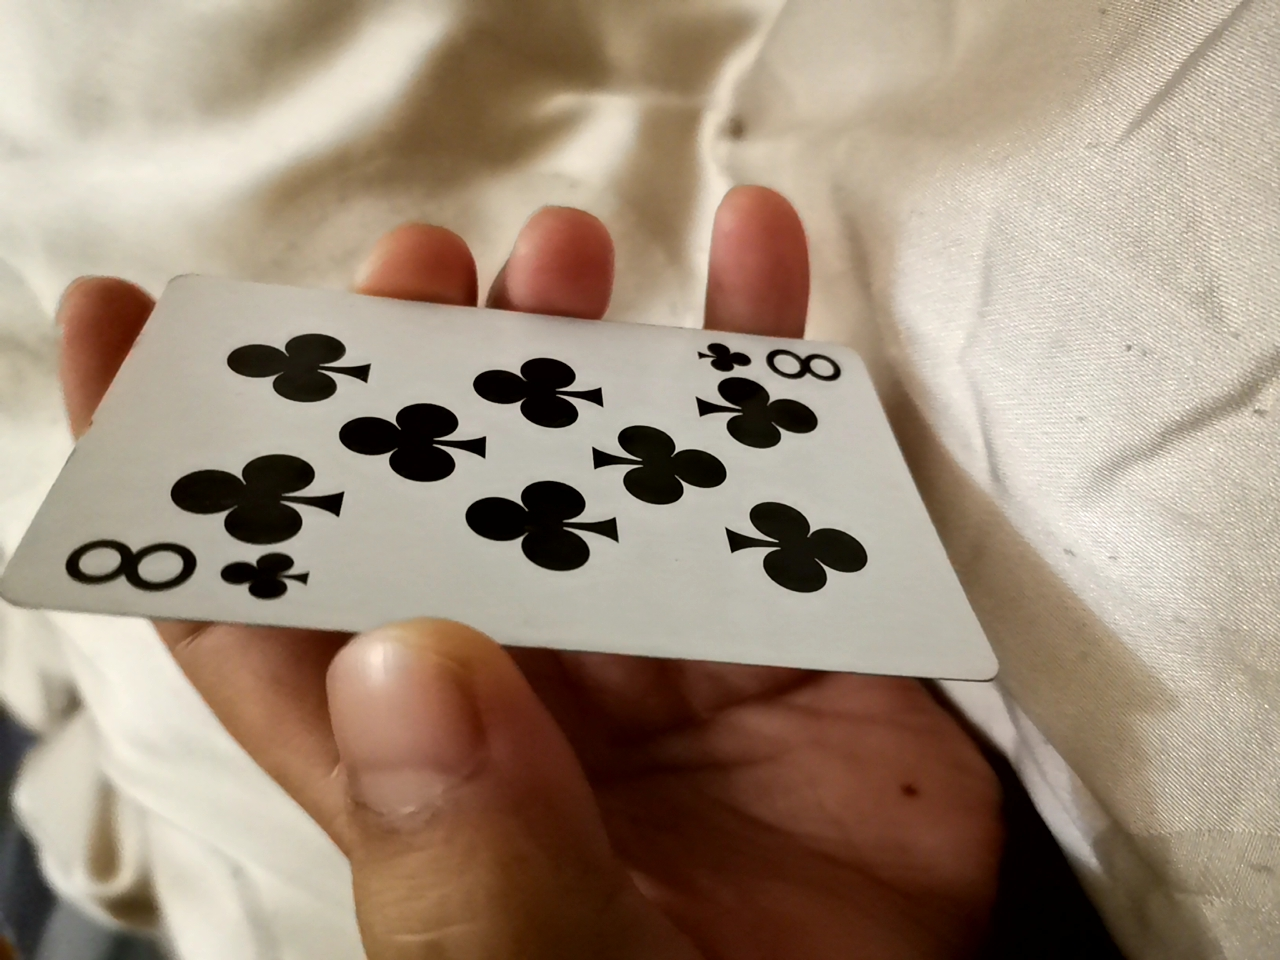mh 8: (26, 290, 989, 684)
